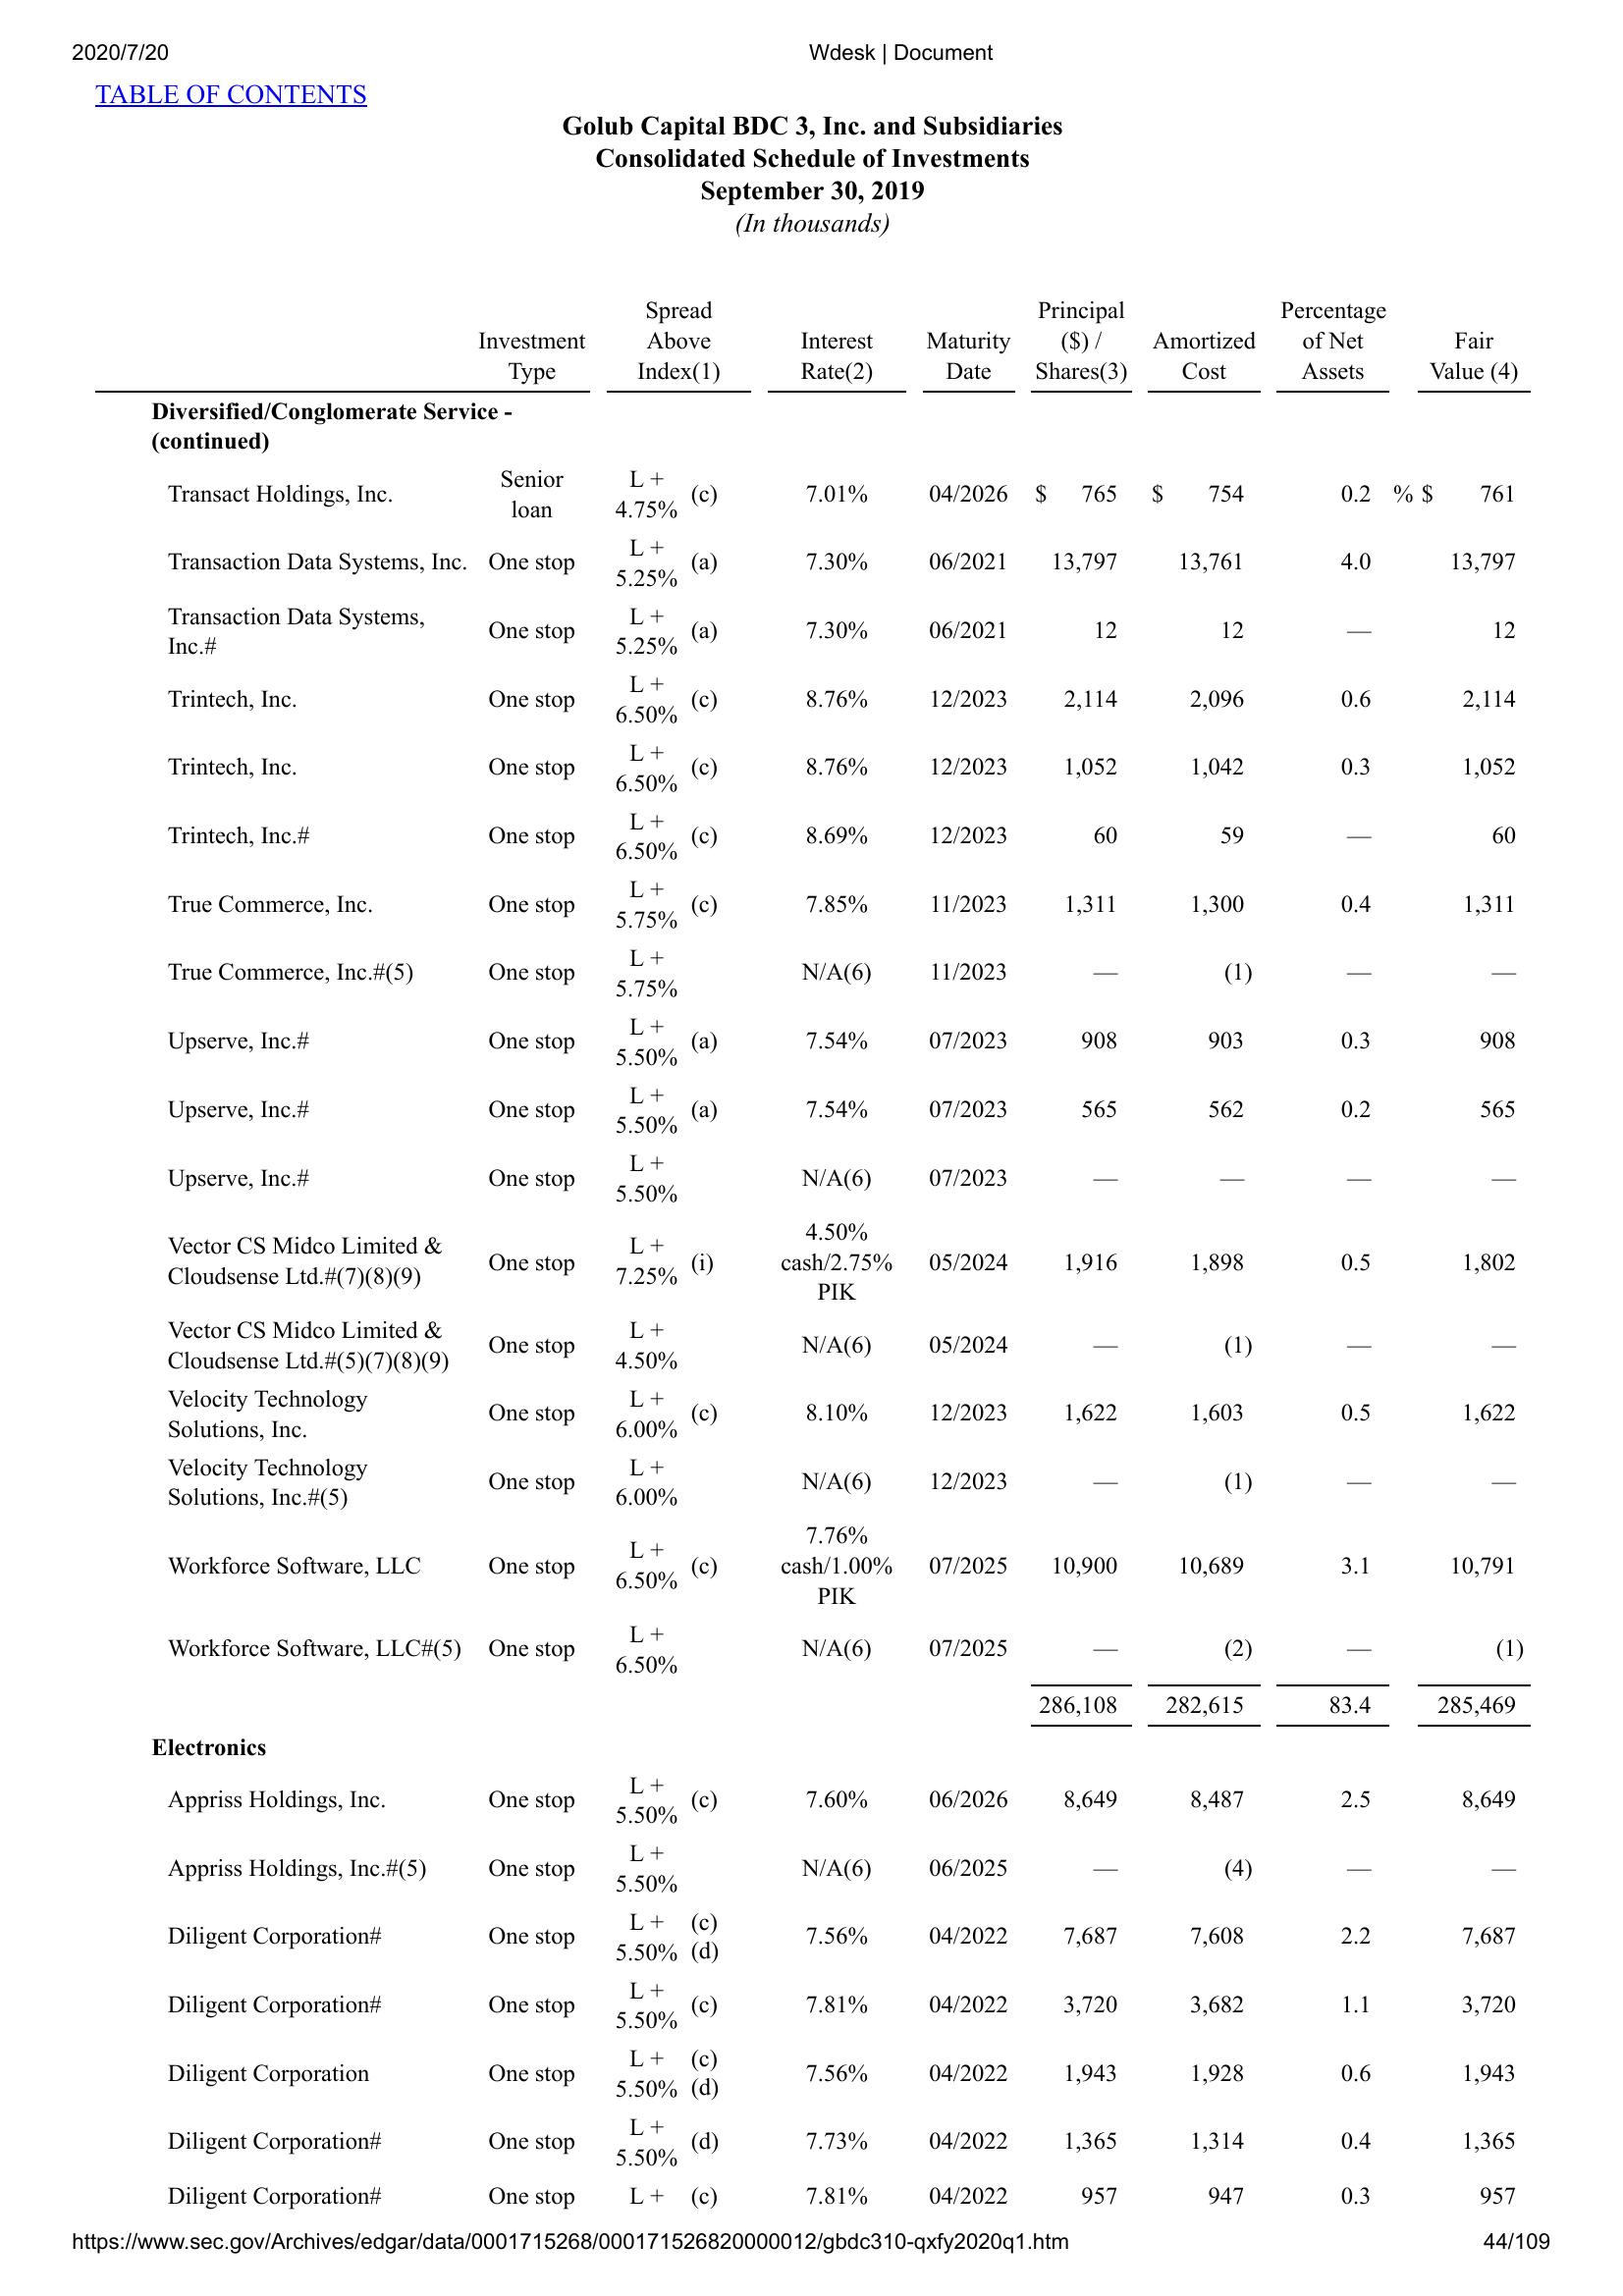table: (83, 286, 1535, 2212)
